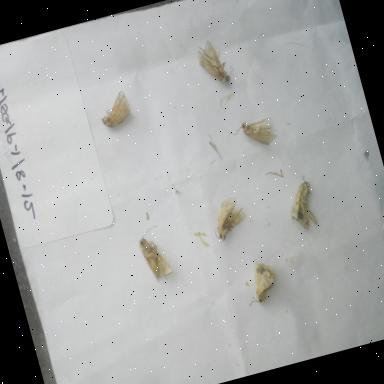abw: (219, 107, 286, 167), (130, 218, 180, 292), (188, 29, 242, 96), (278, 168, 326, 240), (201, 186, 256, 247), (235, 252, 288, 314), (91, 82, 139, 136)
